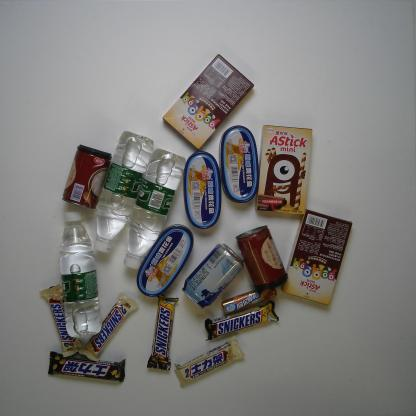Alcohol: (182, 242, 244, 309)
Candy: (222, 284, 278, 315)
Canned Food: (136, 225, 193, 298), (235, 224, 288, 290), (62, 144, 112, 210), (218, 125, 259, 203), (182, 151, 222, 229)
Chocolate: (78, 293, 139, 362), (174, 336, 246, 387), (38, 283, 84, 358), (204, 301, 280, 341), (146, 295, 180, 371), (48, 352, 126, 382)
Dessert: (163, 55, 254, 149), (281, 209, 352, 306), (255, 124, 313, 216)
Drink: (123, 148, 186, 271), (93, 131, 154, 254), (59, 211, 102, 338)
